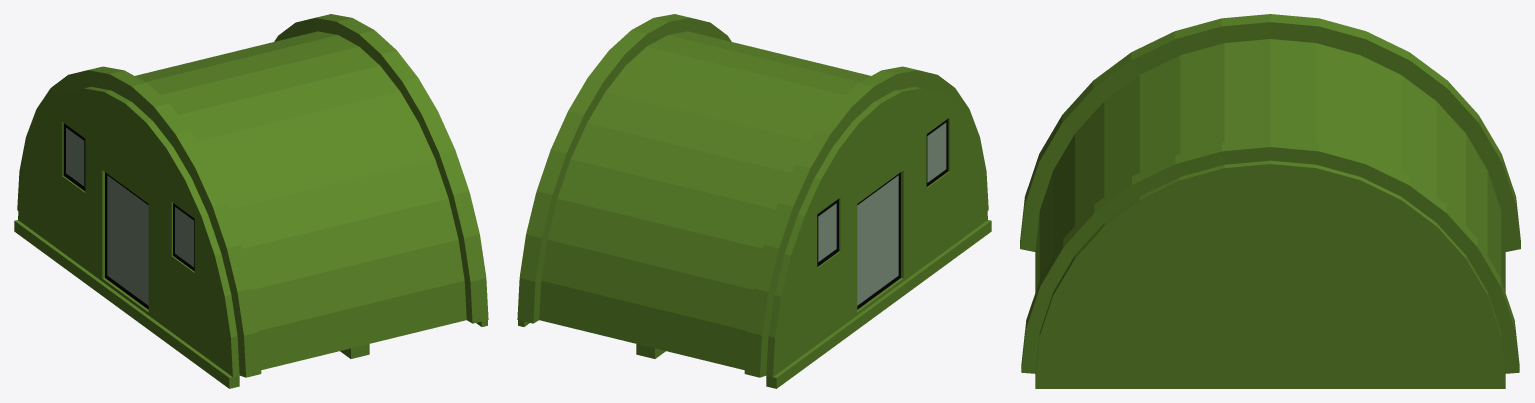
The picture shows the model from 3 angles, left to right: view 1: azimuth 30°, elevation 25°; view 2: azimuth 150°, elevation 25°; view 3: azimuth 270°, elevation 25°; orthographic projection. The views are drawn at different scales.
Parts seen in each view (by area): view 1: Cylinder; view 2: Cylinder; view 3: Cylinder.
Part boxes in pixels (x1,y1,x2,y2): Cylinder: (14,14,488,388); Cylinder: (517,14,991,388); Cylinder: (1020,14,1520,388).
Size of the model in its own units: 139 by 114 by 213.
